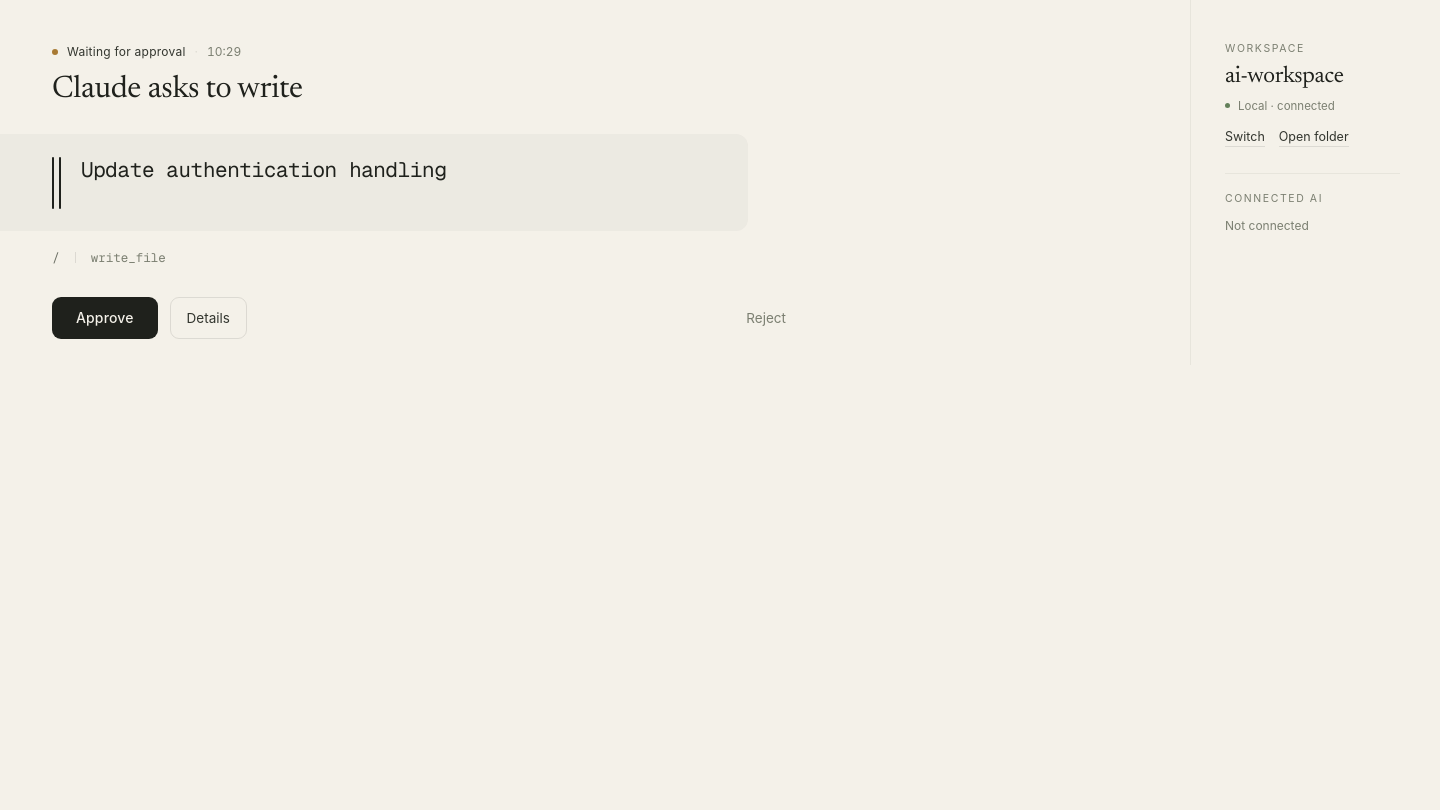
Test: what a change row has to say beyond its path › says nothing of the sort for a delete that takes one empty directory
Click the button "Details" at (208, 318), box [170,297,247,339]
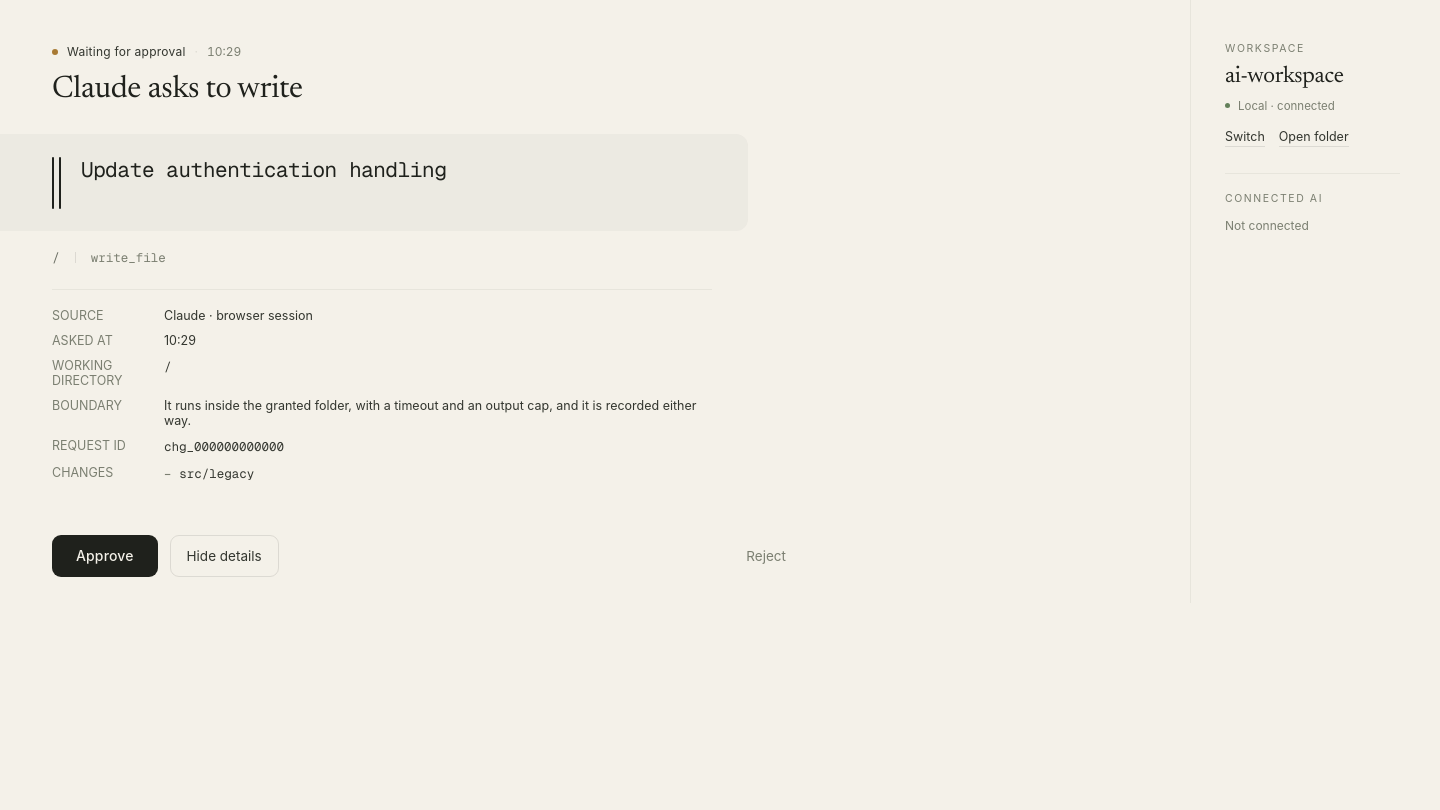
expect the text "src/legacy" is shown: met, box [179,465,254,482]
